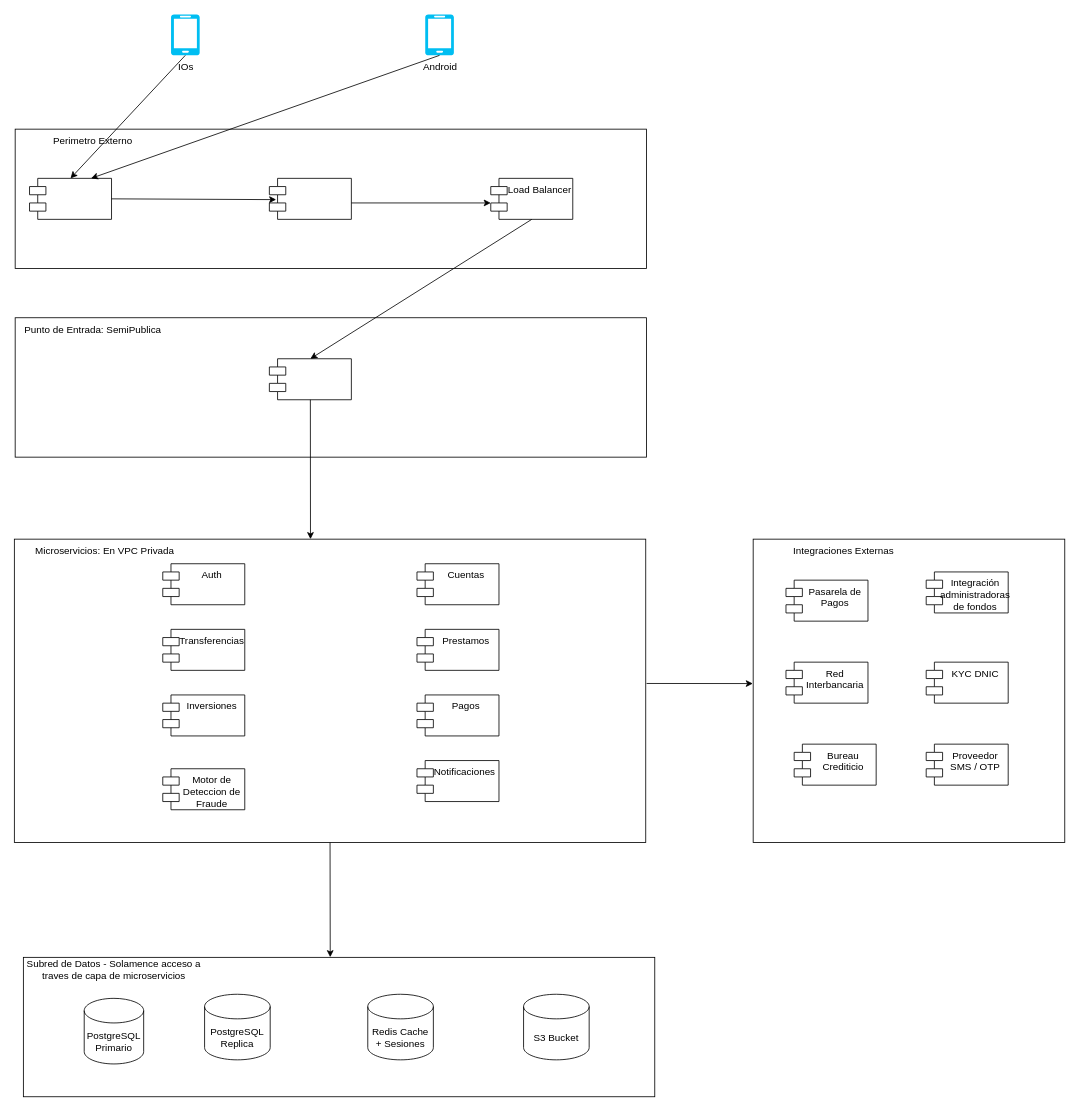
Image size: 1079x1111. Some labels were removed from this diagram. Here are the shapes that lost their labels. From the top down, the centre of each, then its label:
the point at 70,198: CloudFront (CDN)
the point at 310,198: WAF (Web Application Firewall)
the point at 310,379: API Gateway
